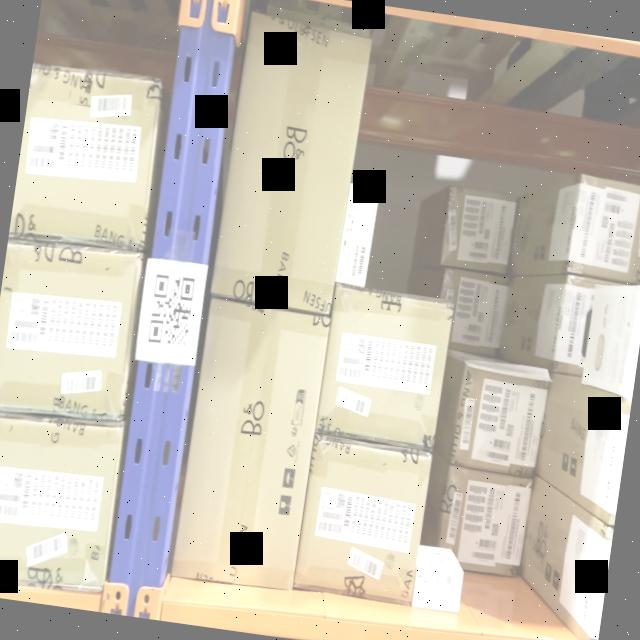box: (214, 11, 372, 314), (175, 296, 332, 584), (0, 237, 143, 422), (316, 286, 456, 449), (0, 411, 124, 593), (294, 438, 431, 600), (569, 180, 640, 283)
